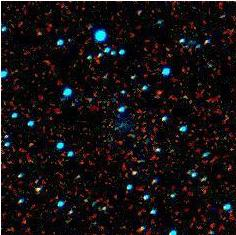star: (144, 78, 174, 108)
